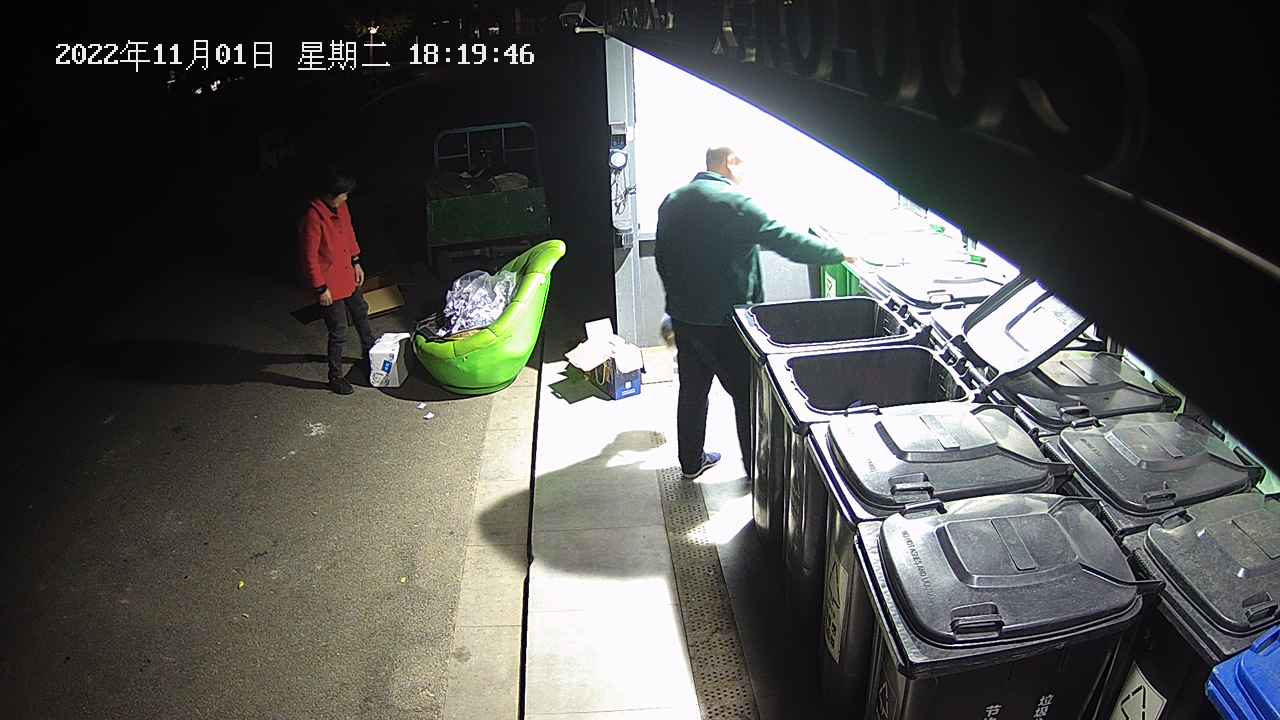person: (653, 141, 862, 483), (302, 172, 378, 394)
zhizhipin: (562, 314, 647, 401), (367, 330, 412, 390)
